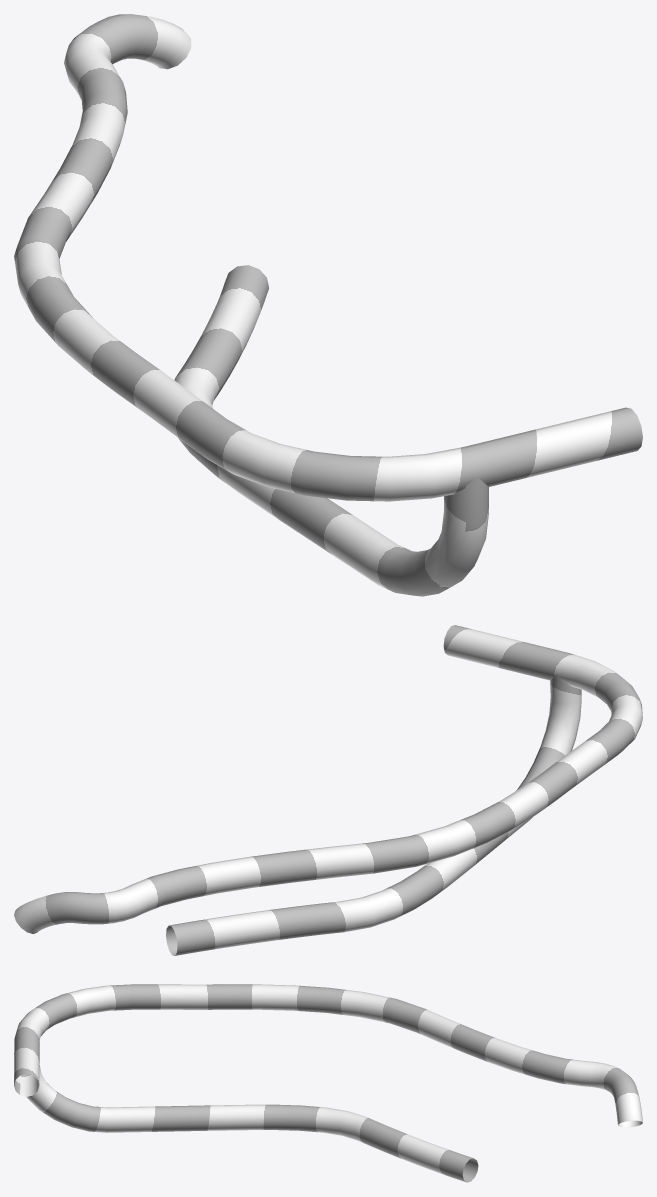
The model's file is Rail_Right_Short.fbx.
3 views of the same model, one above another, from view 1: azimuth 30°, elevation 25°; view 2: azimuth 150°, elevation 25°; view 3: azimuth 270°, elevation 25° (orthographic). The views are drawn at different scales.
Visible parts, largest first — view 1: Rail_Right_Short; view 2: Rail_Right_Short; view 3: Rail_Right_Short.
Boxes of the visible parts, x1=… form: Rail_Right_Short: x1=14, y1=14, x2=642, y2=596; Rail_Right_Short: x1=14, y1=625, x2=642, y2=955; Rail_Right_Short: x1=14, y1=984, x2=642, y2=1182.
Size of the model in its own units: 87.76 by 196 by 36.36.
1 material, 1 textured.
